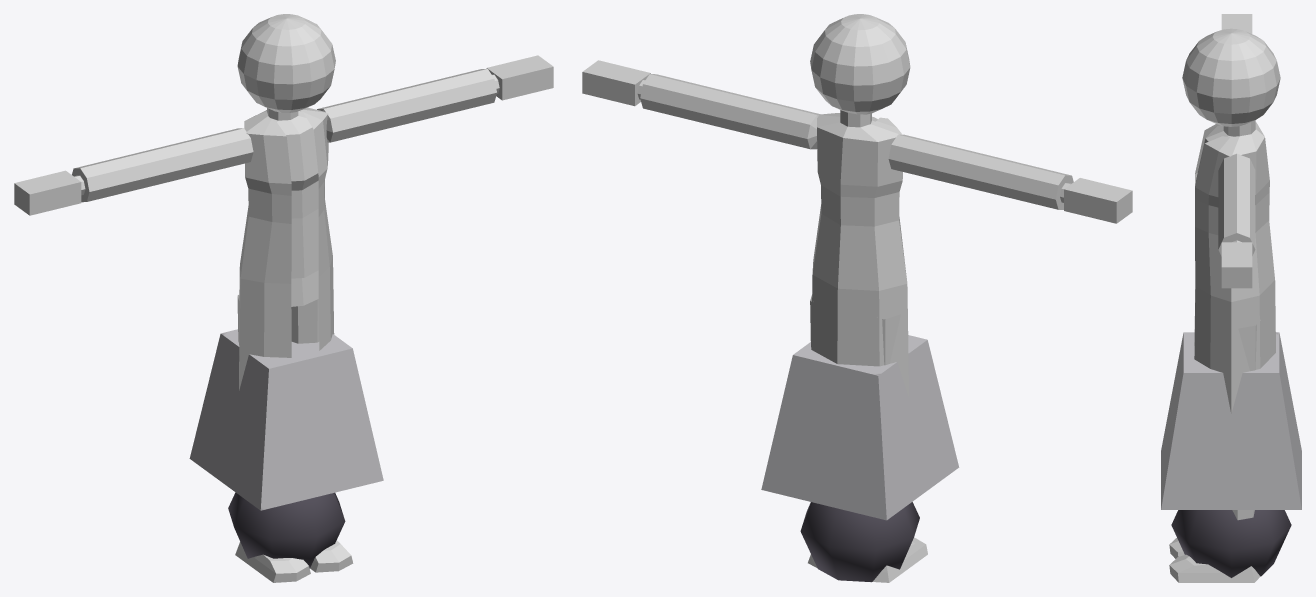
File: lamp.fbx
The picture shows the model from 3 angles, left to right: view 1: azimuth 30°, elevation 25°; view 2: azimuth 150°, elevation 25°; view 3: azimuth 270°, elevation 25°; orthographic projection. The views are drawn at different scales.
Parts seen in each view (by area): view 1: Cube.001, lamp; view 2: Cube.001, lamp; view 3: Cube.001, lamp.
Boxes of the visible parts, x1,y1,x2,y2 form: Cube.001: (14,14,553,582); lamp: (189,329,383,568); Cube.001: (582,14,1132,582); lamp: (761,335,959,582); Cube.001: (1169,14,1280,582); lamp: (1161,332,1301,577).
Size of the model in its own units: 181 by 176 by 42.45.
